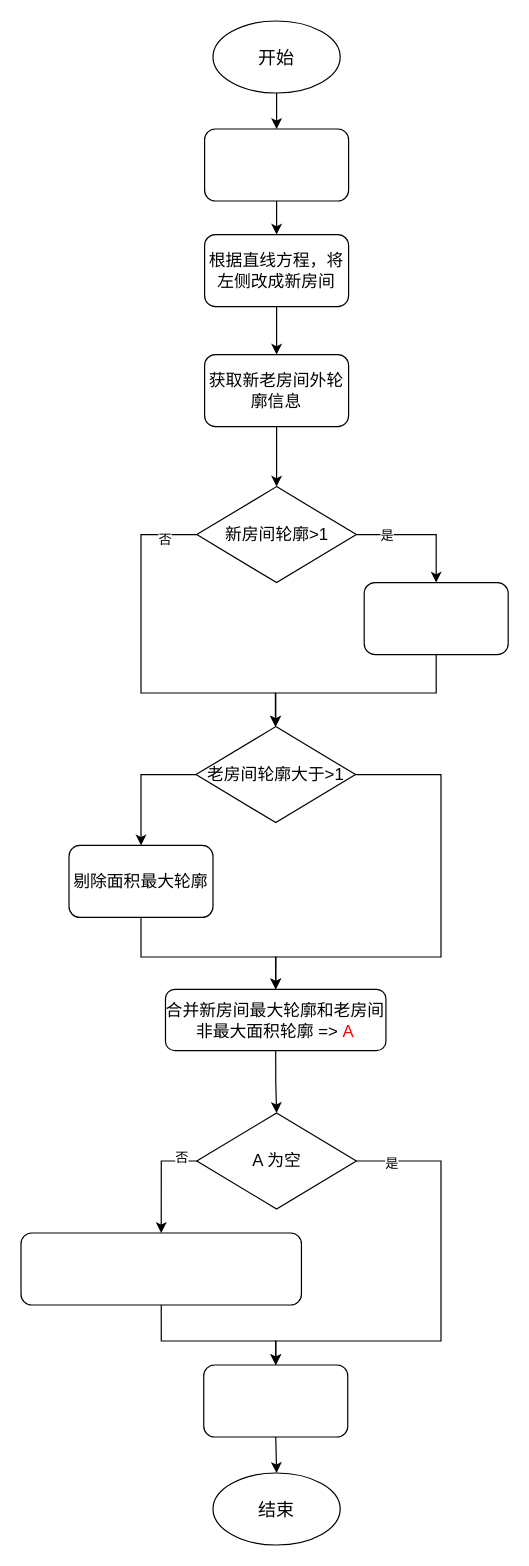
Some shapes in this 529 by 1566 pixel diagram are drawn without their labels. The box of each missing label's shape, as (x1, y1, x2, y2) in pixels:
保存并上报数据: (203, 1364, 348, 1437)
保留面积最大轮廓: (363, 581, 508, 655)
再次遍历原始房间数据，在 A 轮廓内的老房间数字修改为新房间数字: (20, 1232, 301, 1305)
分割线有效: (203, 128, 349, 201)
